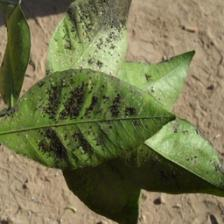Melanose: (9, 0, 200, 168)
